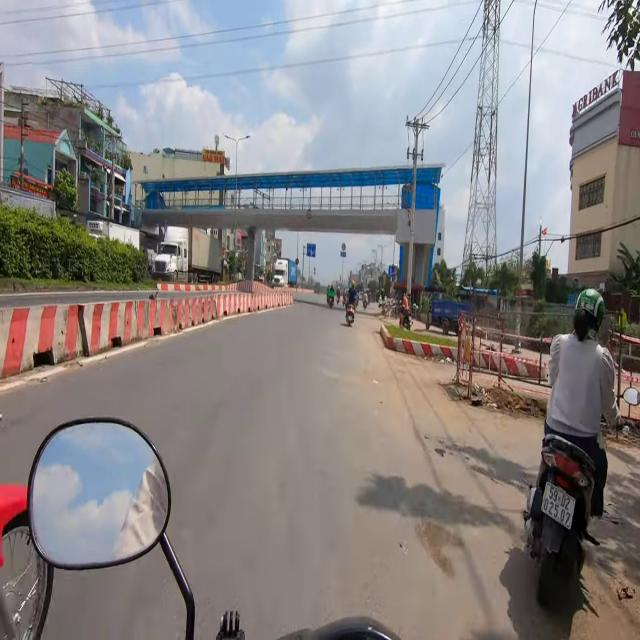bien_trang: (540, 479, 576, 533)
